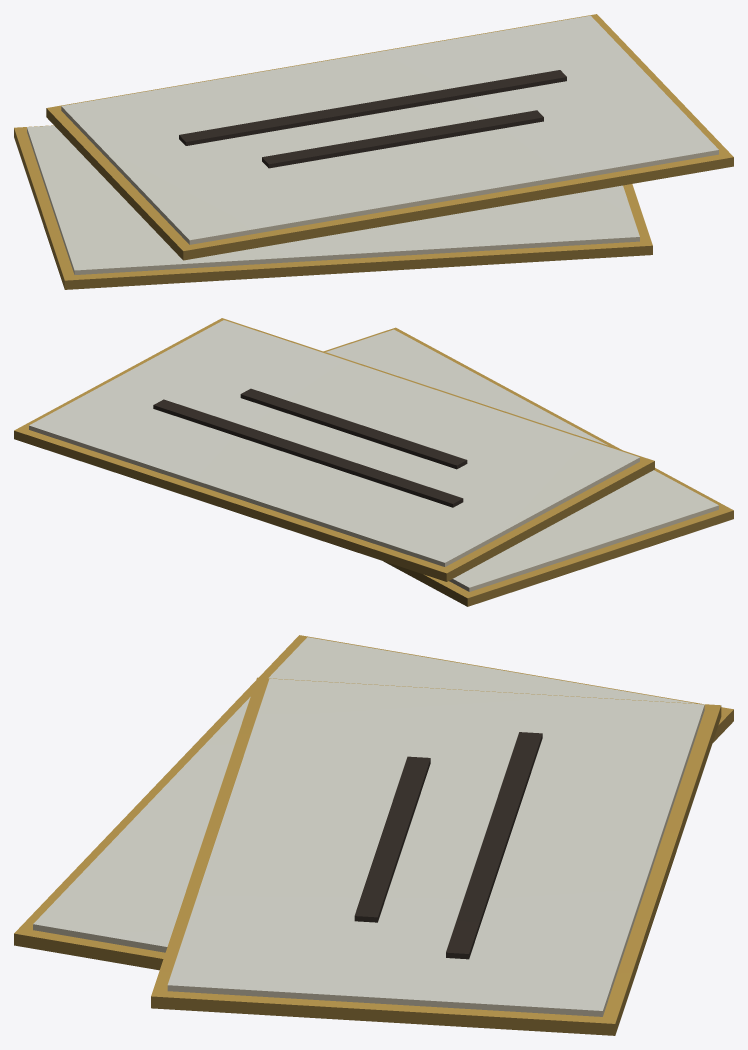
File: ph_item_case_card.glb
The picture shows the model from 3 angles, top to bottom: view 1: azimuth 30°, elevation 25°; view 2: azimuth 150°, elevation 25°; view 3: azimuth 270°, elevation 25°; orthographic projection. The views are drawn at different scales.
Visible parts, largest first — view 1: ph_item_case_card; view 2: ph_item_case_card; view 3: ph_item_case_card.
Part boxes in pixels (<box>): ph_item_case_card: <box>14,14,733,289</box>; ph_item_case_card: <box>14,318,733,606</box>; ph_item_case_card: <box>14,635,733,1035</box>.
Bounding box in the file's own units: 0.1325 × 0.0067 × 0.0983.
